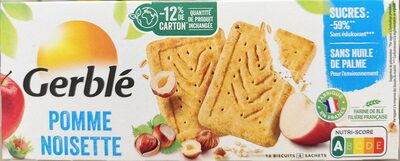Pomme Noisette: (20, 8, 380, 153)
